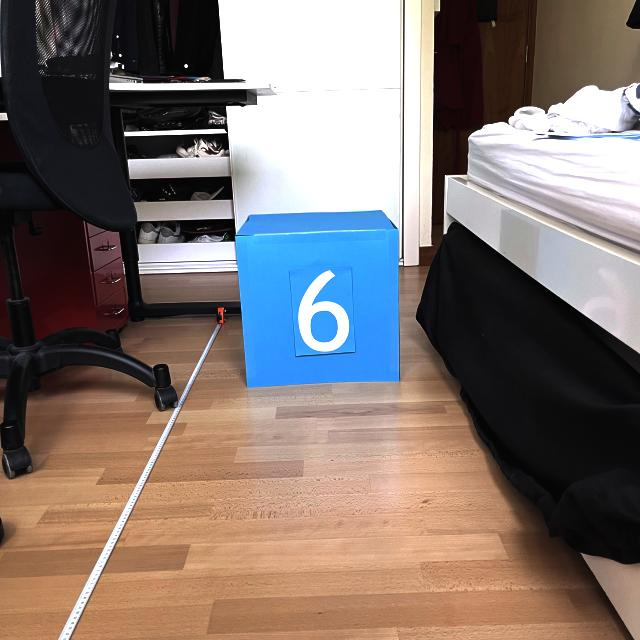box: (230, 205, 404, 389)
